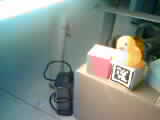duck: (104, 32, 138, 69)
